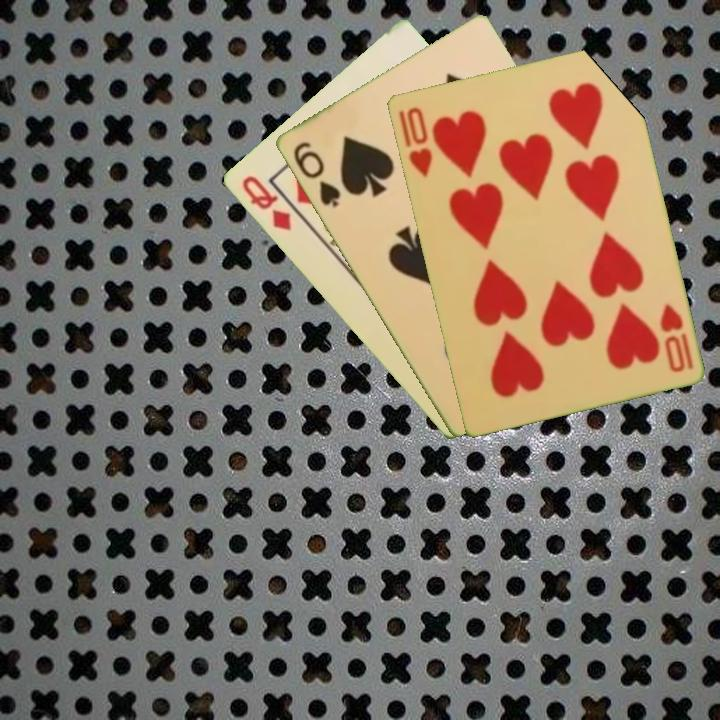10h: (394, 103, 435, 180), (655, 299, 696, 375)
6s: (289, 138, 343, 210)
Qd: (237, 172, 294, 234)
